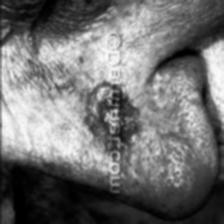Potentially Malignant Skin Tumors: (82, 84, 132, 148)
